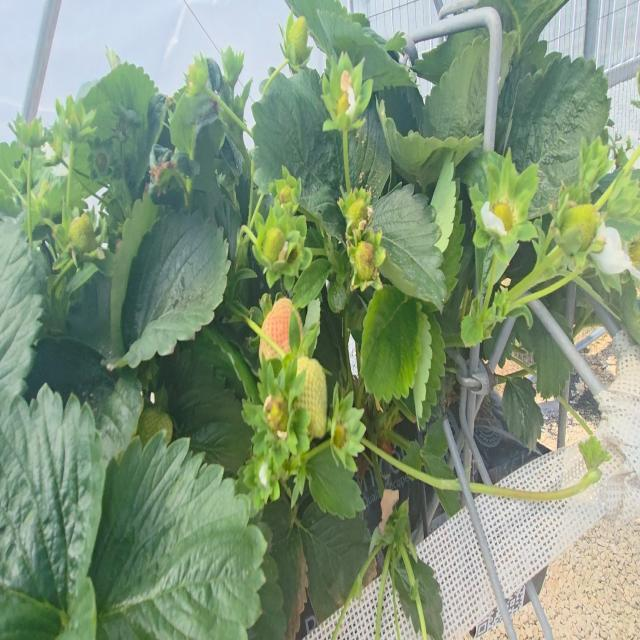Flowers: (591, 223, 631, 274)
Leaves: (95, 439, 266, 639), (0, 389, 104, 610), (122, 210, 229, 366), (508, 57, 610, 217), (252, 69, 345, 233), (24, 337, 143, 460), (162, 349, 252, 475), (372, 185, 445, 306), (300, 501, 371, 622), (0, 220, 43, 401), (318, 11, 415, 90), (361, 285, 427, 400), (381, 115, 482, 190), (426, 34, 489, 138), (0, 576, 97, 639), (306, 448, 364, 518), (349, 104, 390, 200), (502, 377, 543, 449), (499, 31, 516, 89)
Strawberries: (297, 357, 327, 439), (56, 95, 97, 149), (558, 204, 601, 254), (262, 297, 291, 353), (285, 14, 312, 65), (339, 188, 372, 229), (137, 408, 172, 446), (9, 114, 44, 148), (68, 213, 96, 252), (483, 201, 514, 234), (351, 241, 376, 281), (185, 56, 208, 96), (263, 227, 284, 261), (337, 71, 351, 113), (260, 339, 278, 358), (66, 172, 71, 204)
